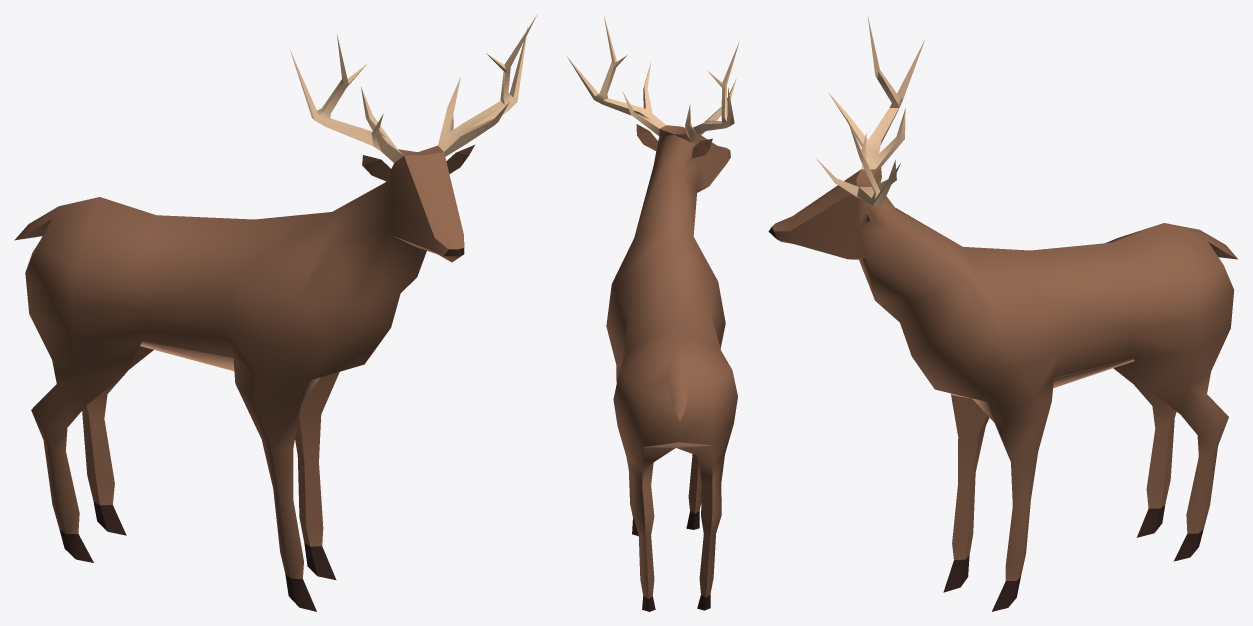
3 views of the same model, side by side, from view 1: azimuth 30°, elevation 25°; view 2: azimuth 150°, elevation 25°; view 3: azimuth 270°, elevation 25° (orthographic). The views are drawn at different scales.
Parts seen in each view (by area): view 1: Deer-ver1_Texture-base_0; view 2: Deer-ver1_Texture-base_0; view 3: Deer-ver1_Texture-base_0.
Boxes of the visible parts, bbox=[...] form: Deer-ver1_Texture-base_0: bbox=[14, 15, 536, 611]; Deer-ver1_Texture-base_0: bbox=[567, 16, 739, 611]; Deer-ver1_Texture-base_0: bbox=[768, 15, 1237, 611].
Bounding box in the file's own units: 1.3 × 2.19 × 1.64.
1 material, 1 textured.
